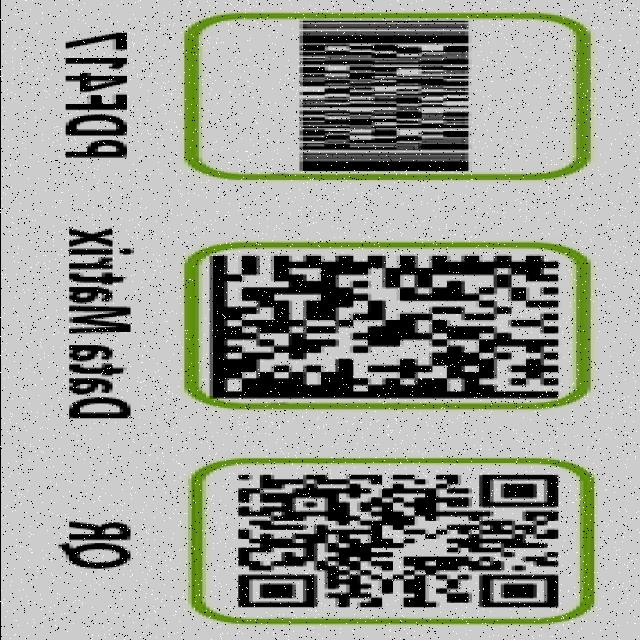datamatrix: (187, 247, 586, 408)
